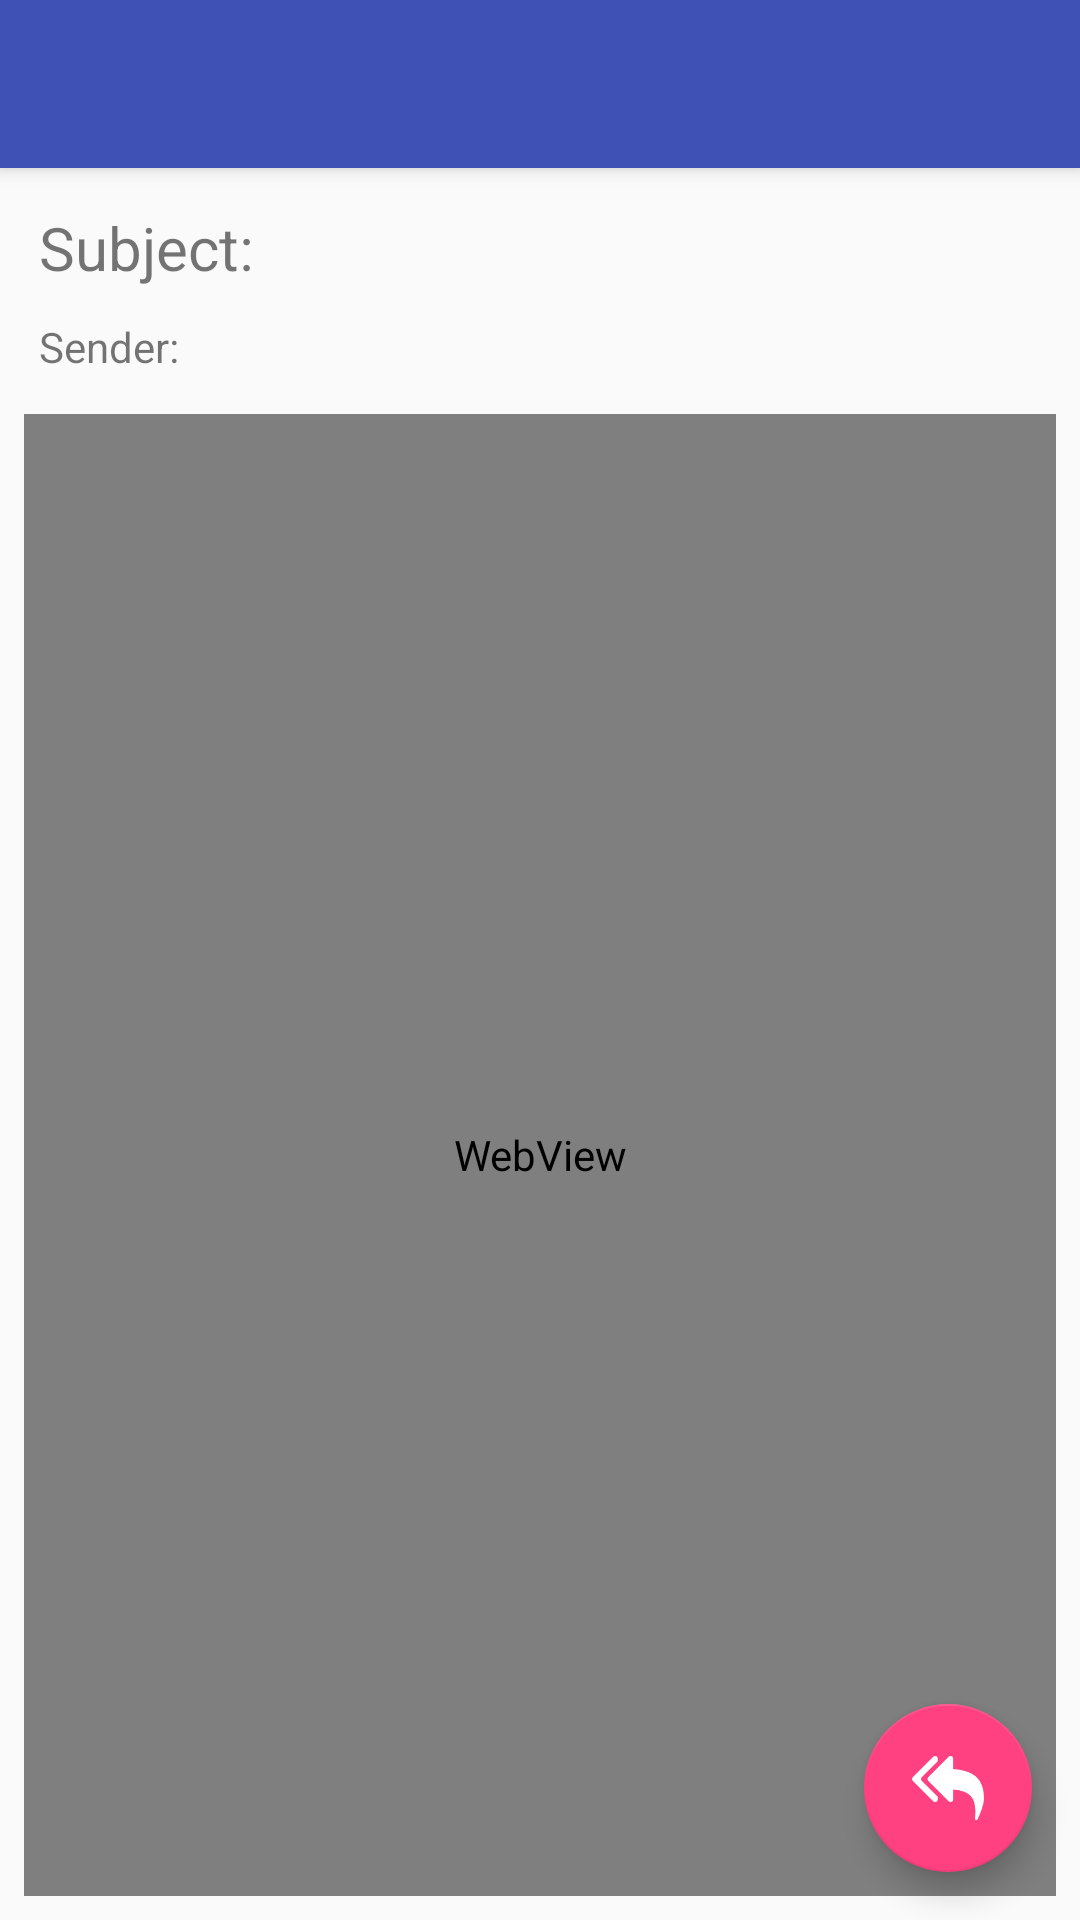

Screen size 1080x1920. Icon name, then its box in pixels as (x1, y1, x2, y2):
reply: (864, 1704, 1032, 1872)
